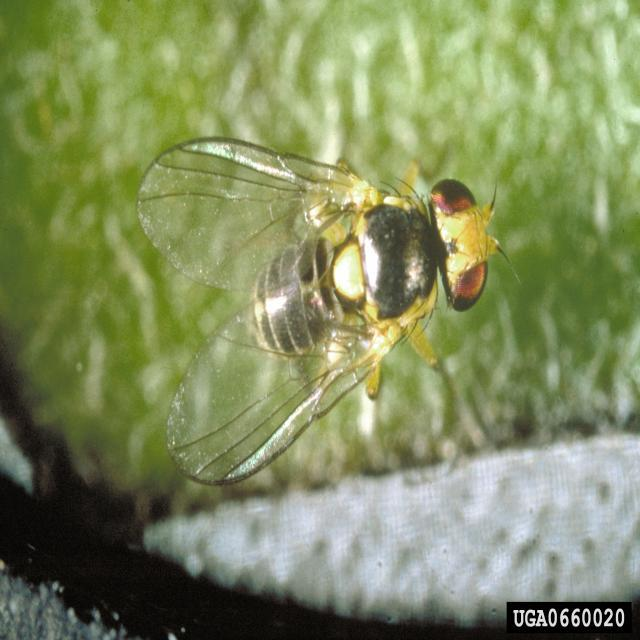Serpentine leafminer: (131, 128, 526, 492)
